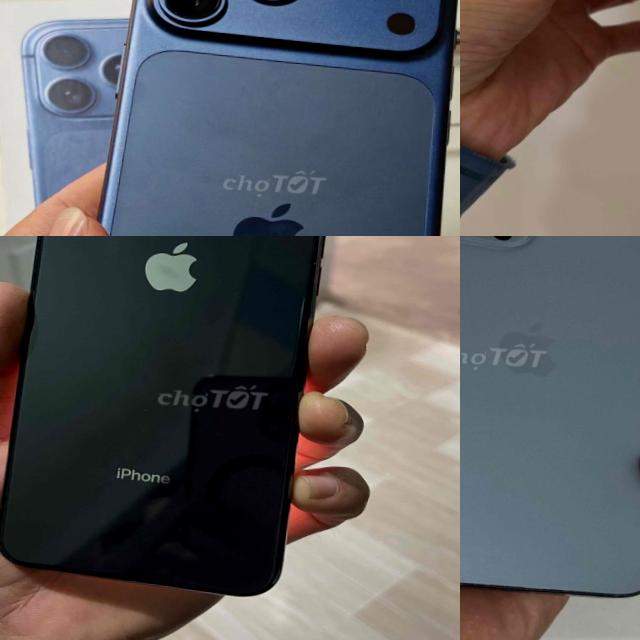gen_12_13: (460, 236, 640, 609)
gen_17: (70, 0, 460, 236)
gen_x_xs: (0, 236, 324, 595)
